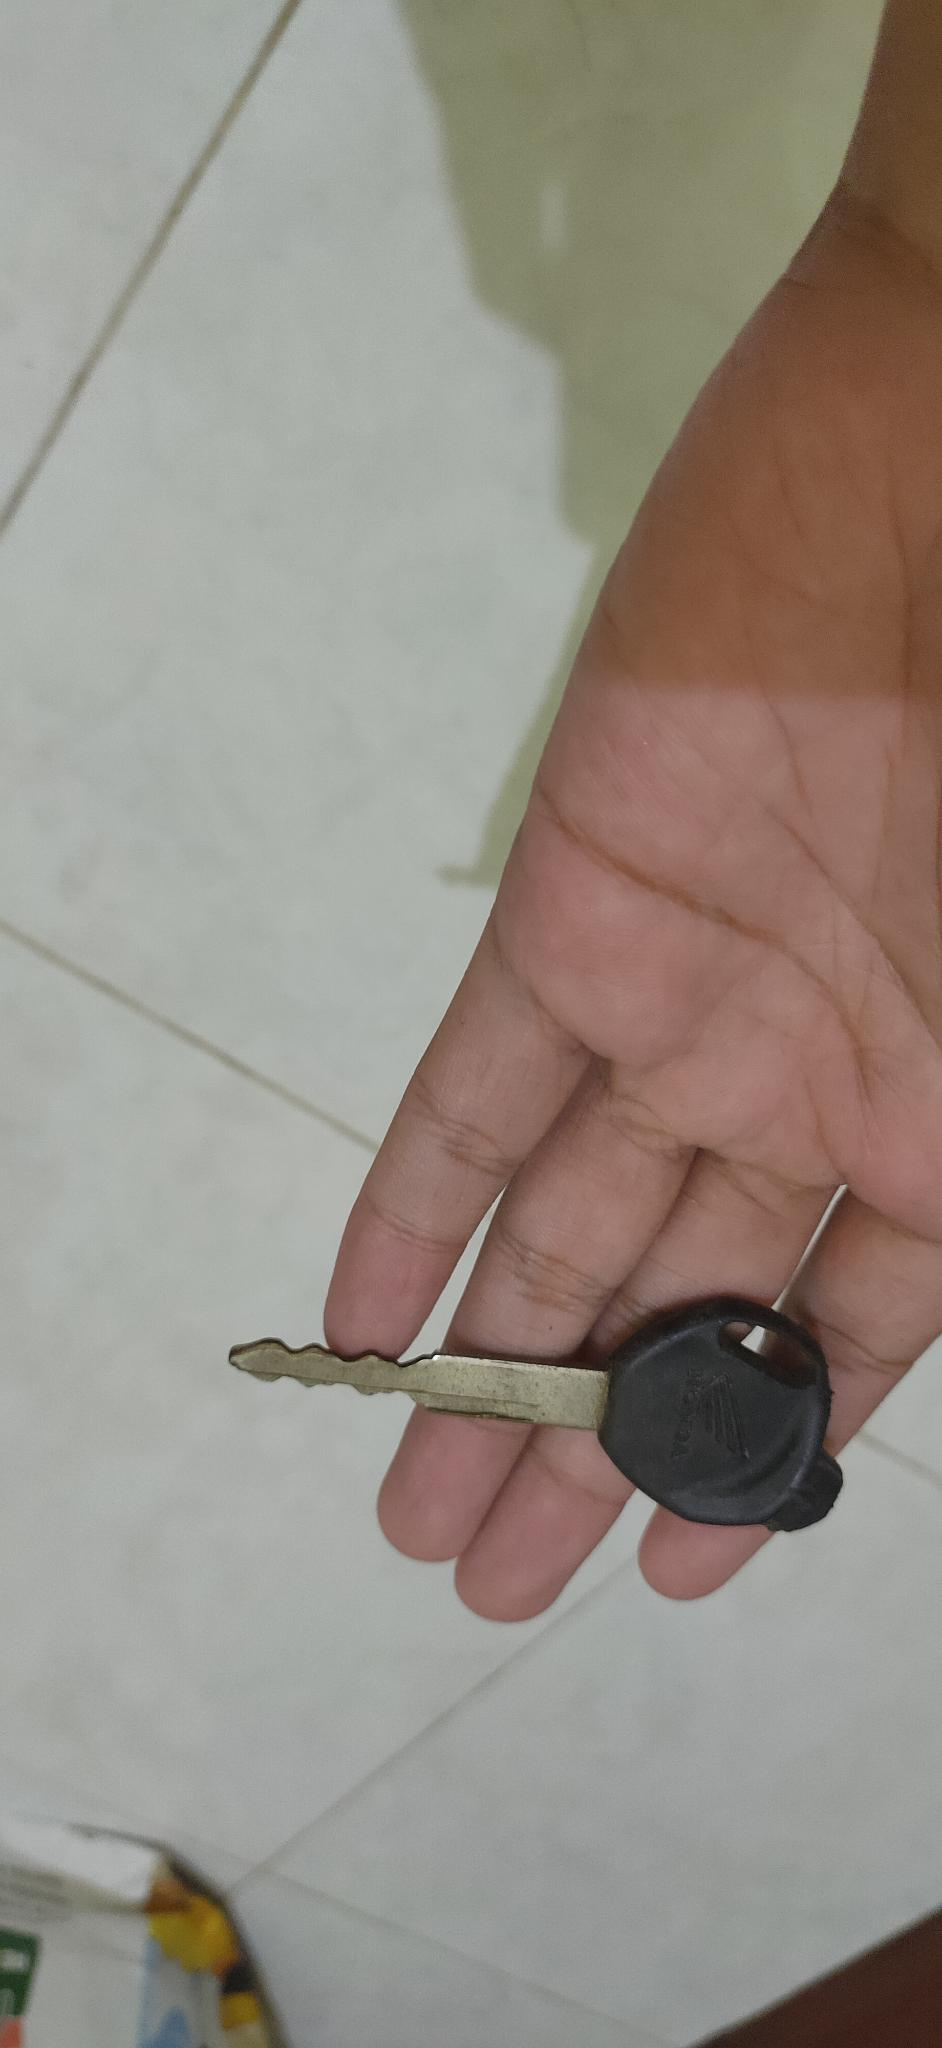keys: (193, 1255, 858, 1561)
